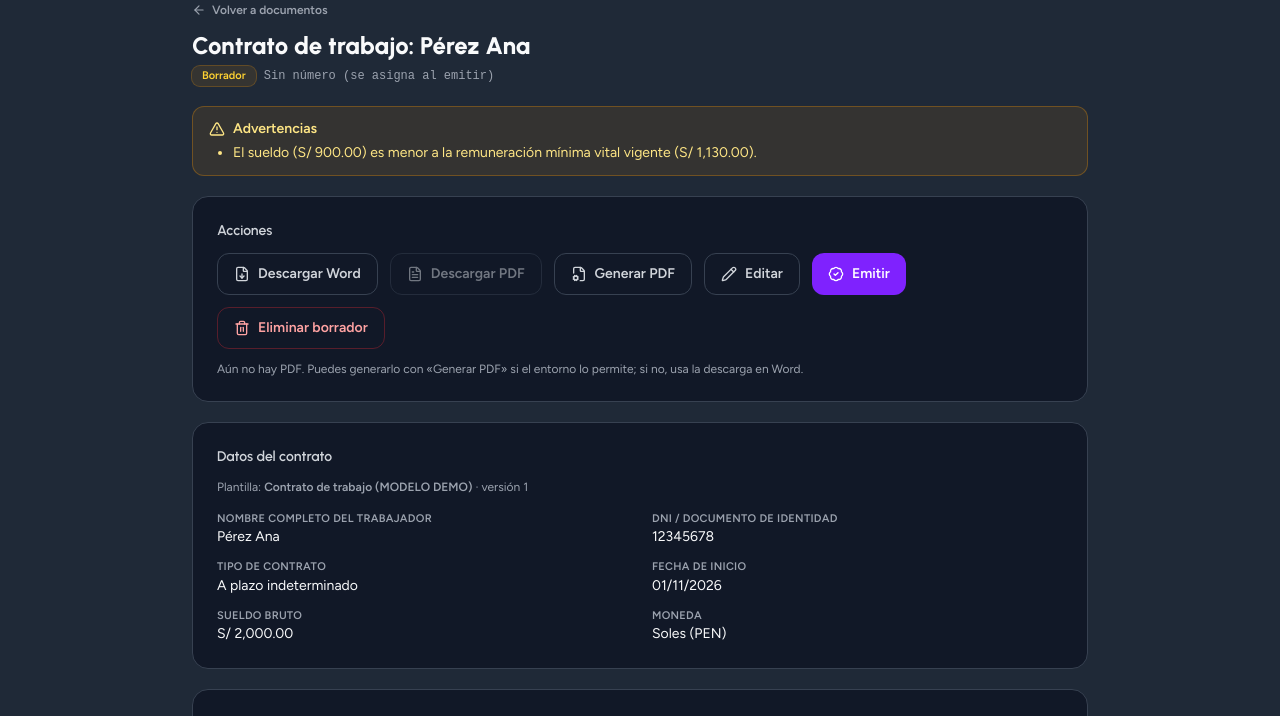
it: HRDocumentDetailPage › Escape cierra el diálogo y devuelve el foco al botón que lo abrió
Click the button "Emitir". click: point(859, 274)
box: [812, 253, 906, 295]
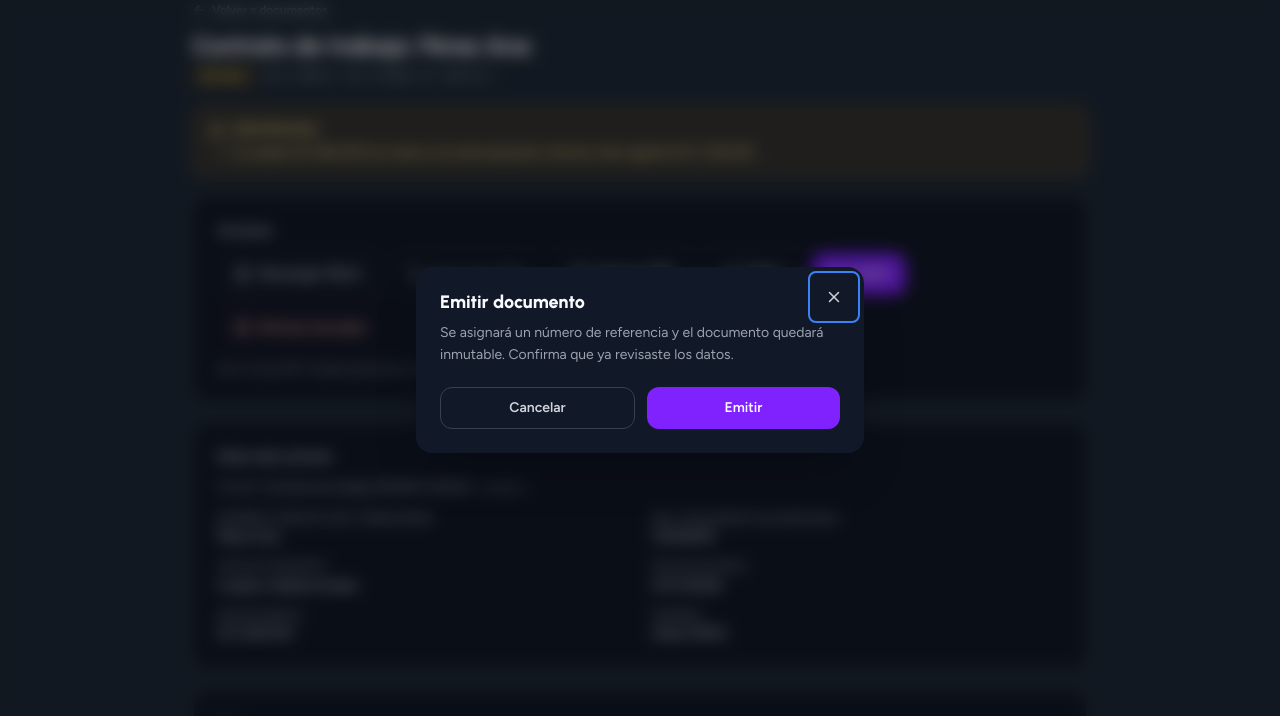
Expected: the dialog is shown, [416, 267, 864, 453]
Press Escape
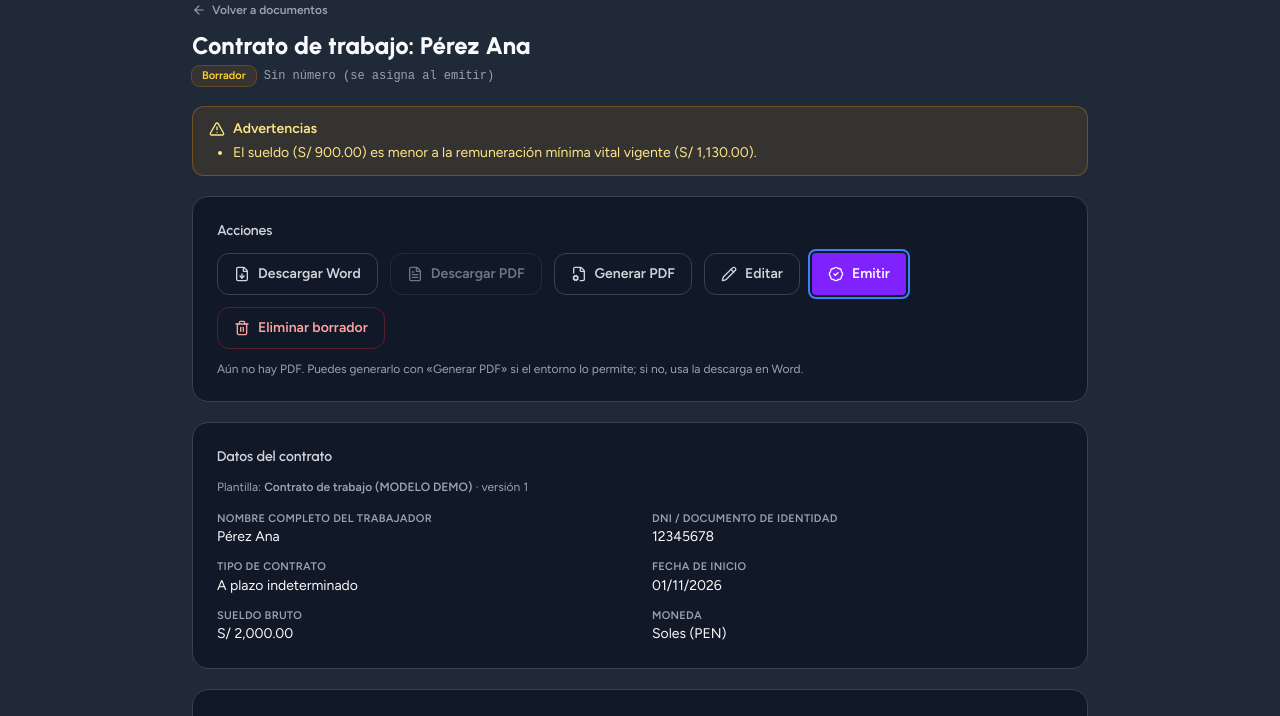
Expected: the dialog is gone
